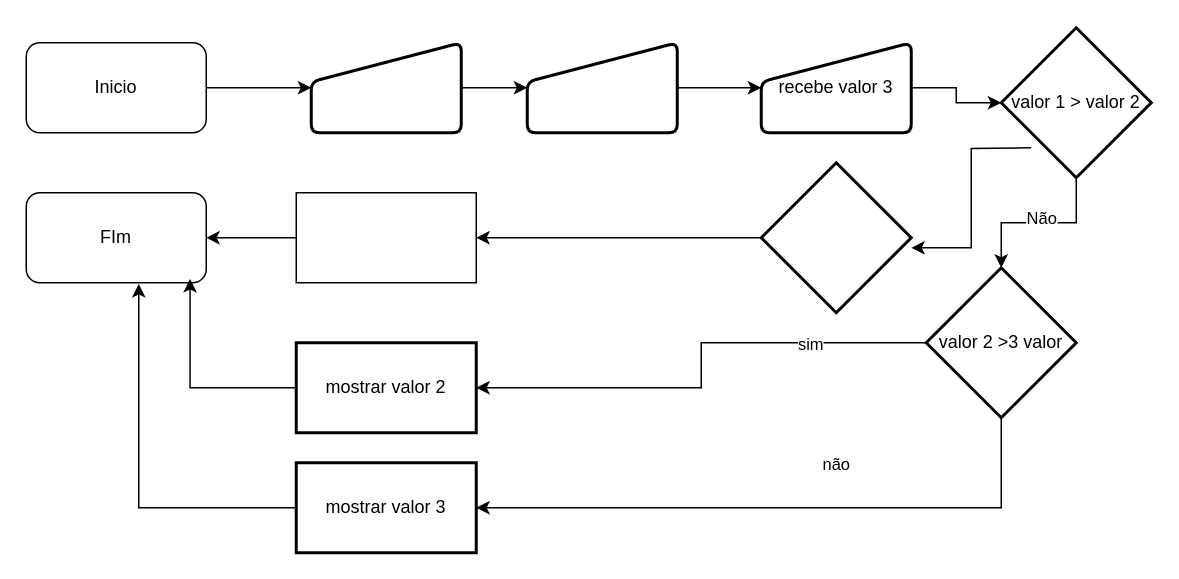
Image size: 1179x579. Some labels were removed from this diagram. Here are the shapes that lost their labels. From the top down, the centre of each, then its label:
At (x=385, y=87): "Recebe valor 1".
At (x=601, y=87): "Recebe valor 2".
At (x=385, y=237): "Mostrar valor 1".
At (x=835, y=237): "valor 1 > valor 3".
